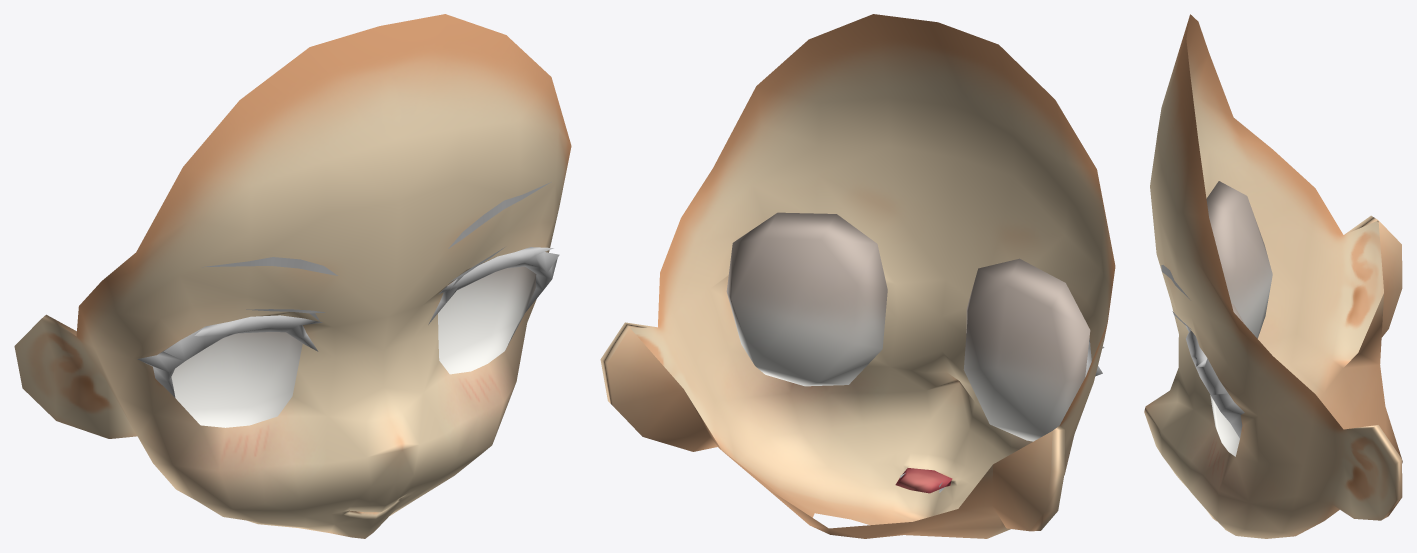
The picture shows the model from 3 angles, left to right: view 1: azimuth 30°, elevation 25°; view 2: azimuth 150°, elevation 25°; view 3: azimuth 270°, elevation 25°; orthographic projection. The views are drawn at different scales.
Parts seen in each view (by area): view 1: Face_02; view 2: Face_02; view 3: Face_02.
Part boxes in pixels (box(x1,y1,x2,y2)): Face_02: box(14, 14, 571, 538); Face_02: box(600, 14, 1115, 538); Face_02: box(1144, 14, 1402, 538).
Size of the model in its own units: 28.07 by 28.11 by 13.66.
